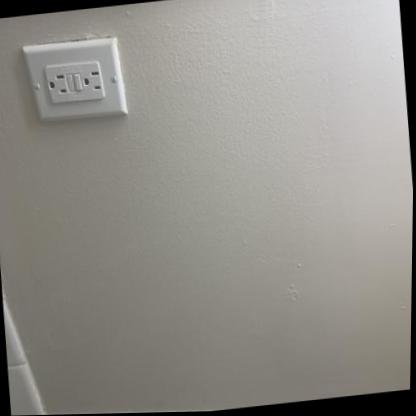OUTLET: (28, 37, 127, 125)
